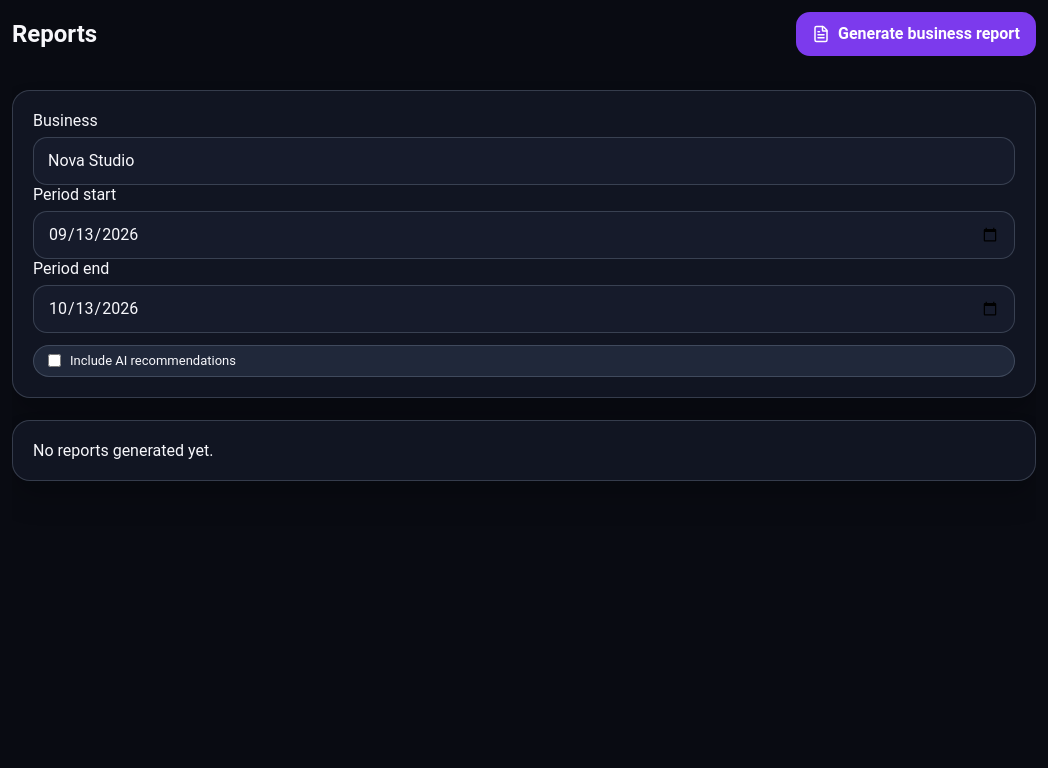
Test: reports client › clears loading after async report failure
Step 1. Click the button "Generate business report" → coordinates (916, 34), box [796,12,1036,56]
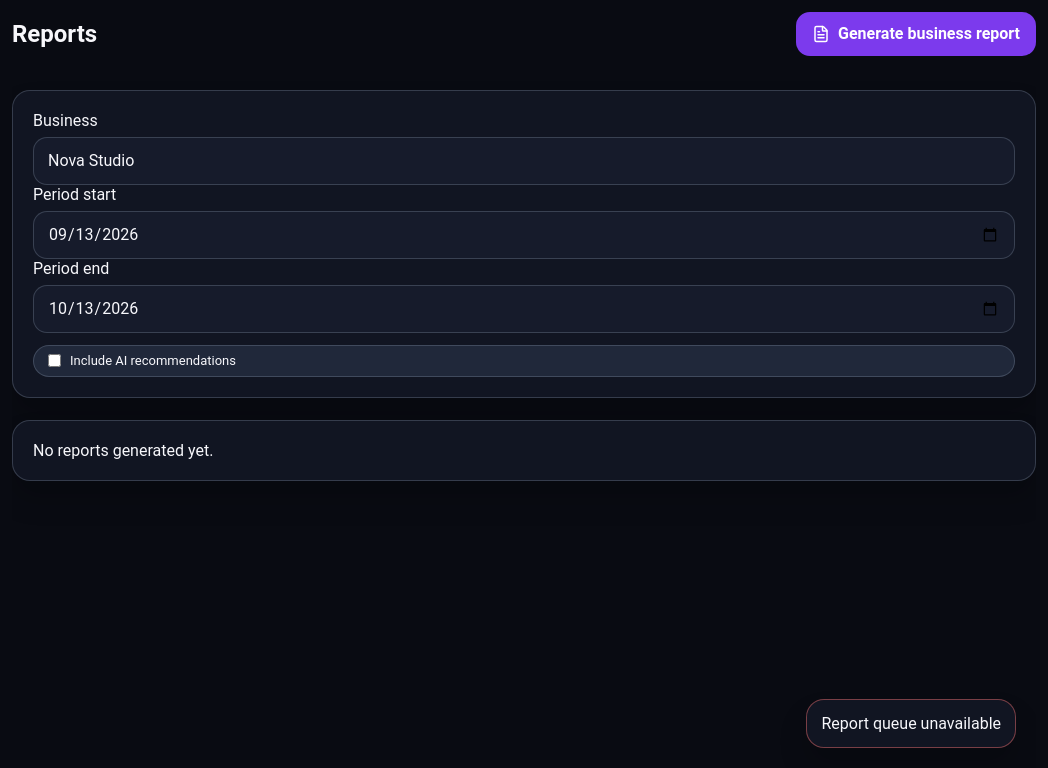
expect the text "Report queue unavailable" is shown: met, box [806,699,1016,748]
